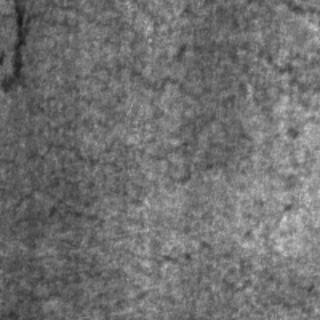crazing: (10, 62, 250, 230)
